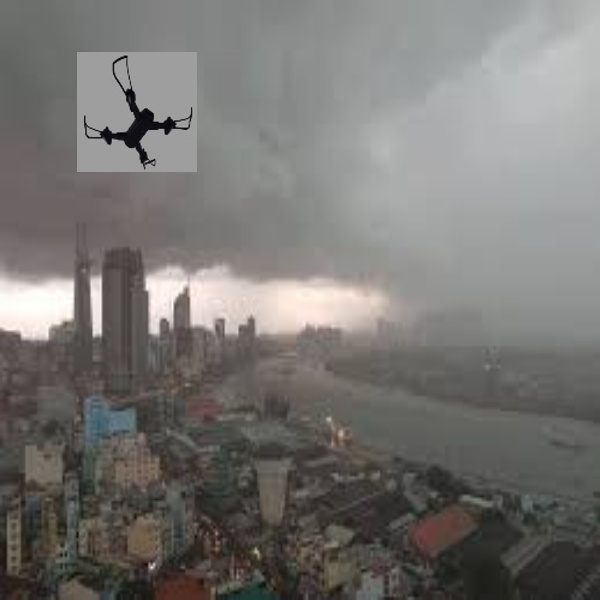drone: (79, 51, 197, 171)
